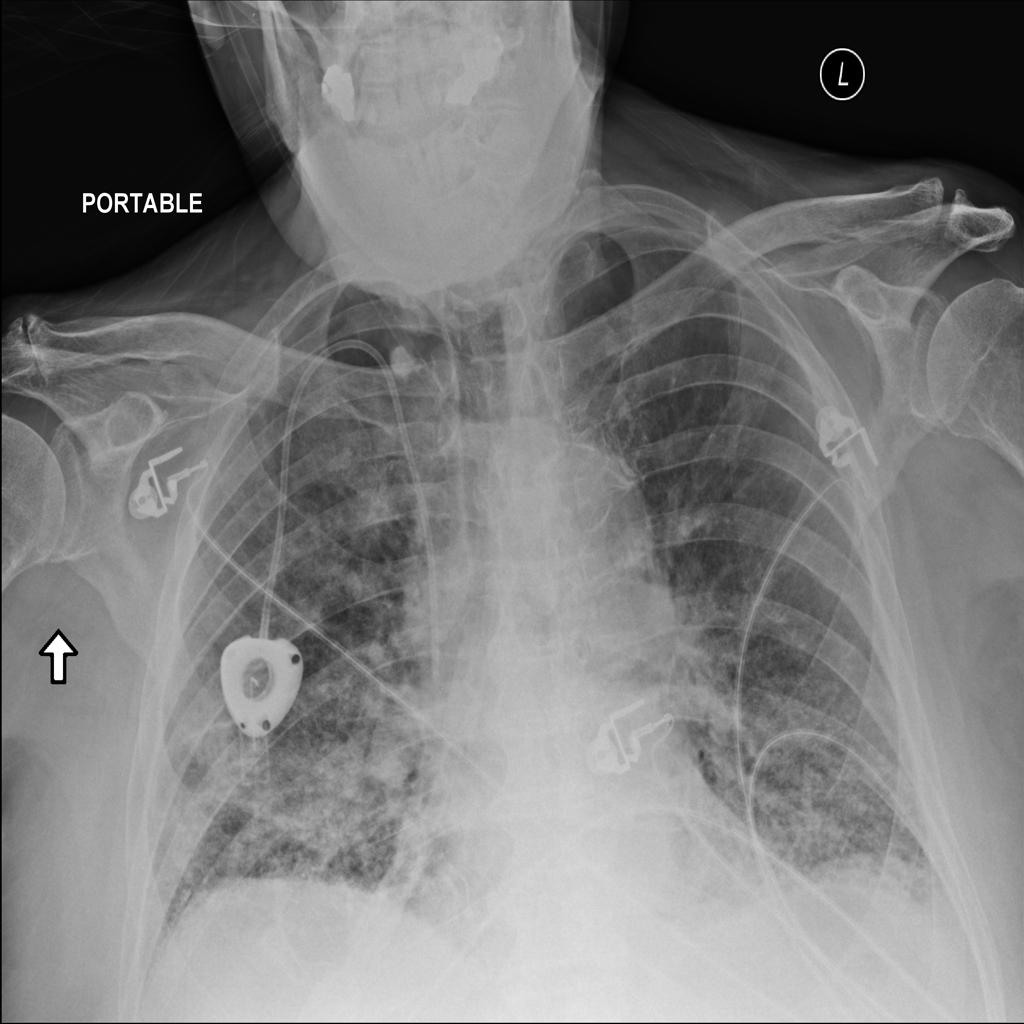nodule: (209, 613, 316, 743), (380, 334, 427, 390)
